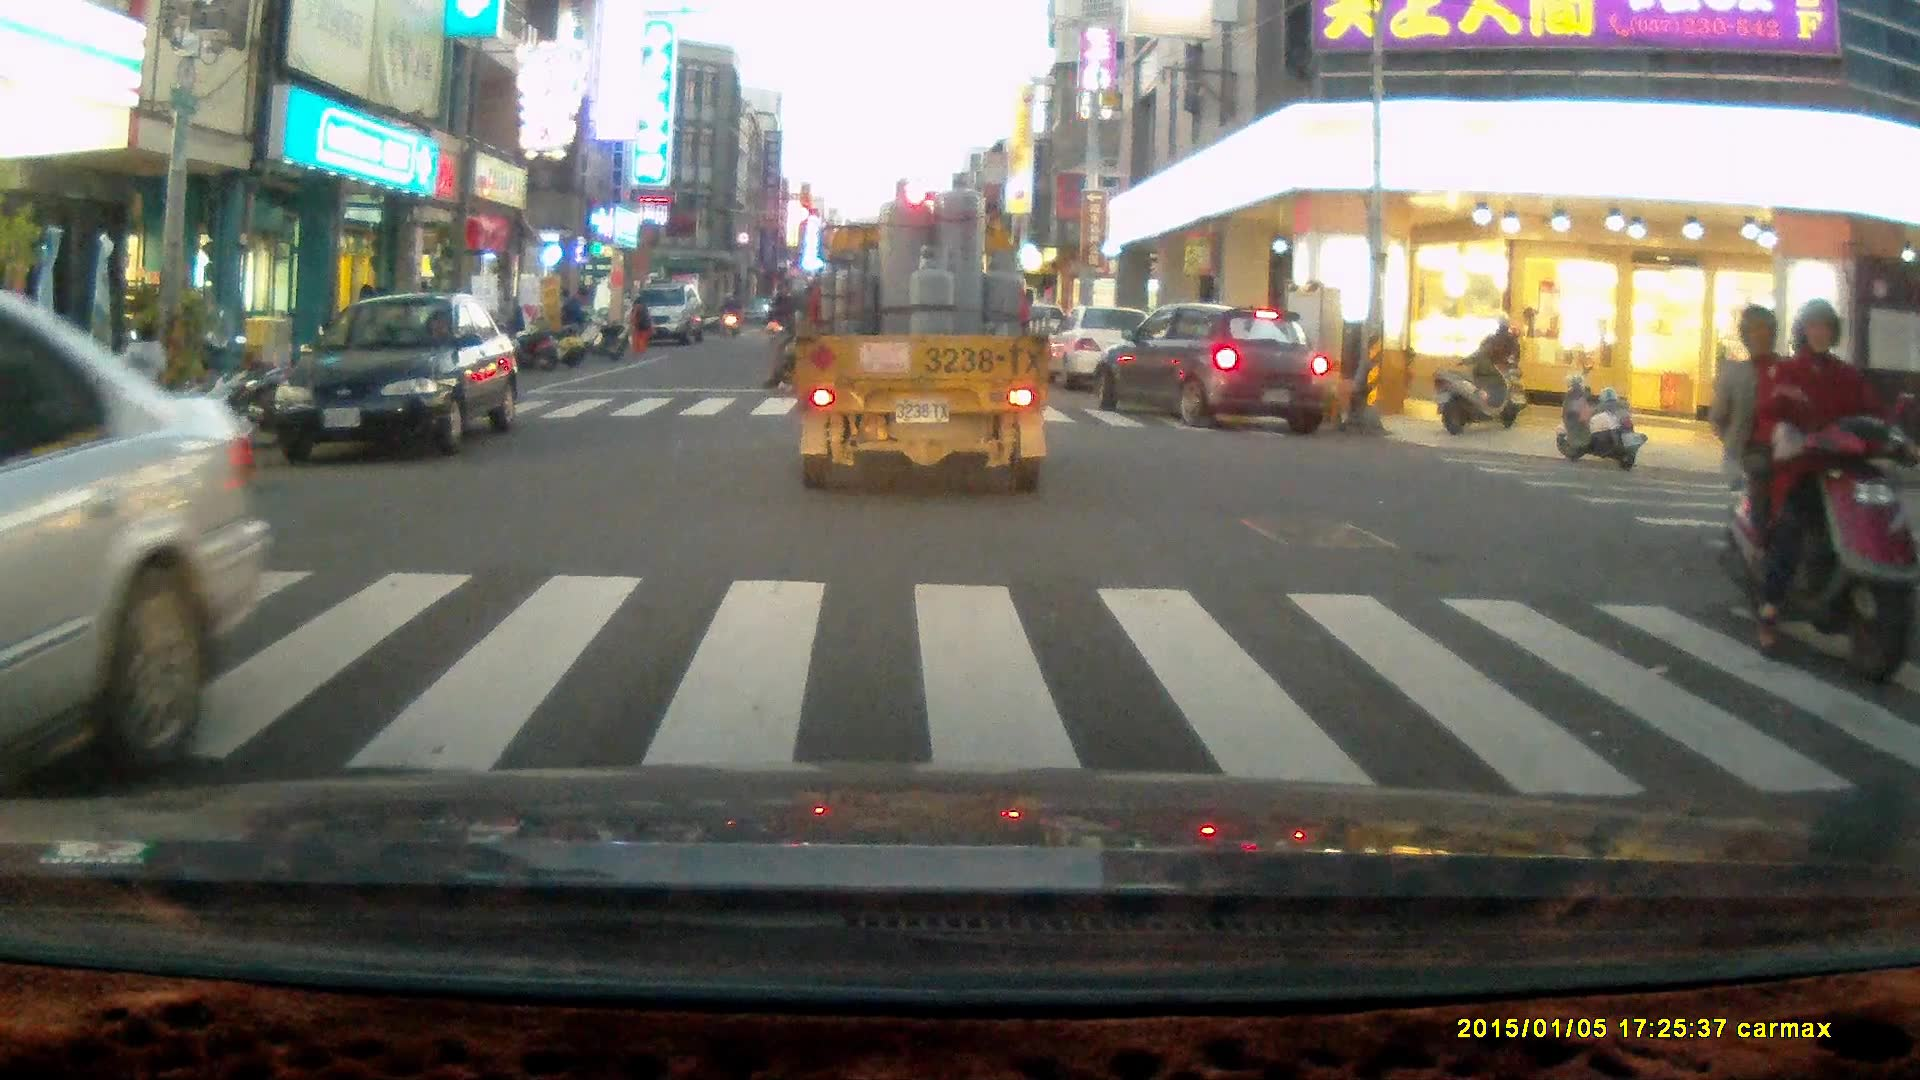pedestrian: (106, 317, 170, 461), (559, 285, 588, 352), (626, 296, 649, 356)
rider: (1713, 294, 1909, 687), (1469, 309, 1527, 428)
vehicle: (1, 307, 266, 809), (790, 168, 1060, 492), (280, 292, 520, 459), (1092, 305, 1327, 431), (1048, 307, 1170, 397), (625, 280, 701, 340)
